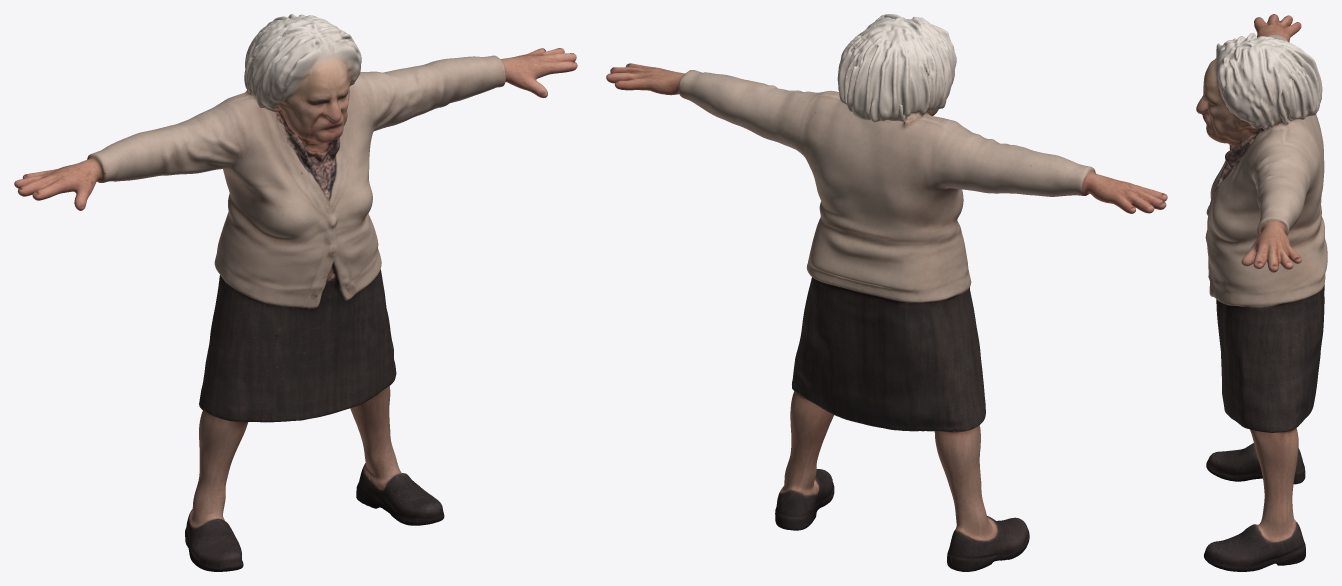
The model's file is Copilot3D-780ab8bb-e62e-4403-a3ef-8134f0aa2a6f.glb.
3 views of the same model, side by side, from view 1: azimuth 30°, elevation 25°; view 2: azimuth 150°, elevation 25°; view 3: azimuth 270°, elevation 25° (orthographic). The views are drawn at different scales.
Parts seen in each view (by area): view 1: world; view 2: world; view 3: world.
Boxes of the visible parts, x1=… form: world: x1=14, y1=14, x2=577, y2=571; world: x1=606, y1=14, x2=1167, y2=571; world: x1=1196, y1=14, x2=1327, y2=571.
Size of the model in its own units: 1 by 0.8805 by 0.2192.
1 material, 1 textured.
